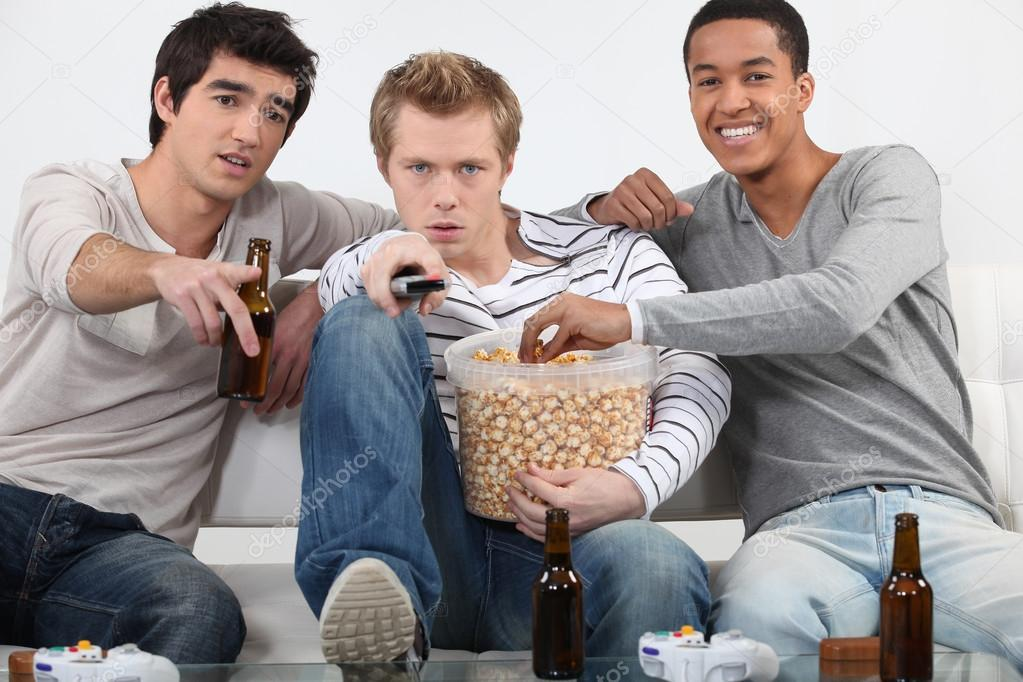bare: (175, 119, 279, 202), (693, 97, 799, 174), (392, 185, 506, 254)
